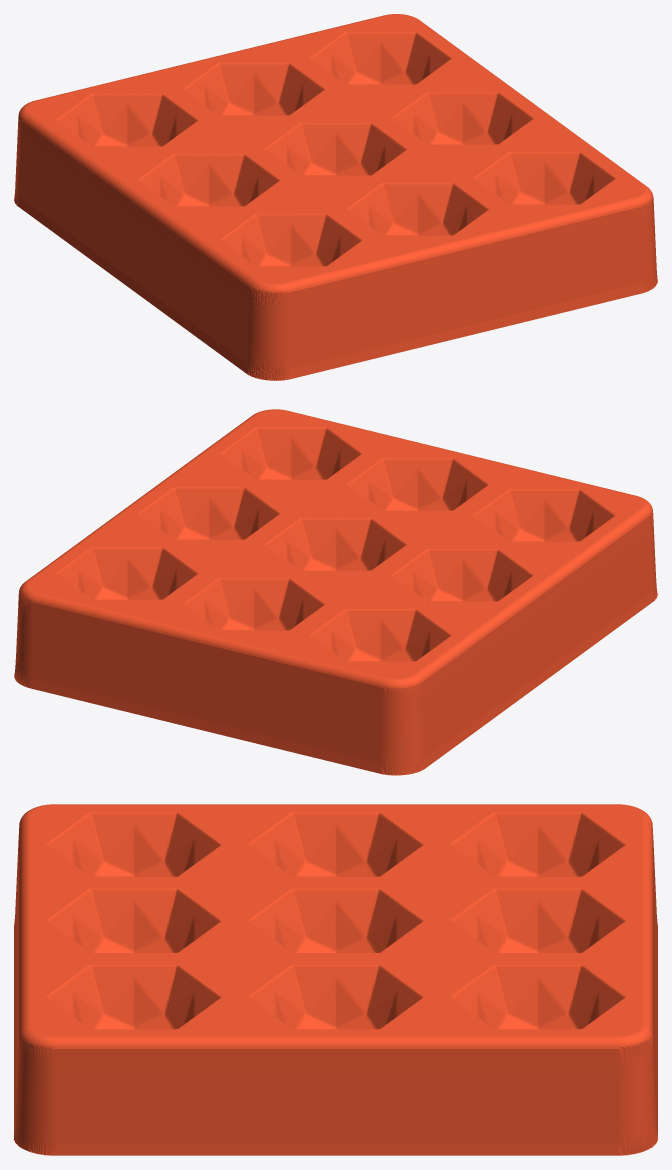
Rendered from mold.glb.
3 renders of one model, top to bottom at view 1: azimuth 30°, elevation 25°; view 2: azimuth 150°, elevation 25°; view 3: azimuth 270°, elevation 25°, orthographic. The views are drawn at different scales.
Parts seen in each view (by area): view 1: geometry_0; view 2: geometry_0; view 3: geometry_0.
Part boxes in pixels (x1,y1,x2,y2): geometry_0: (14, 14, 657, 380); geometry_0: (14, 409, 657, 775); geometry_0: (14, 804, 657, 1155).
Bounding box in the file's own units: 0.1267 × 0.0272 × 0.1409.
